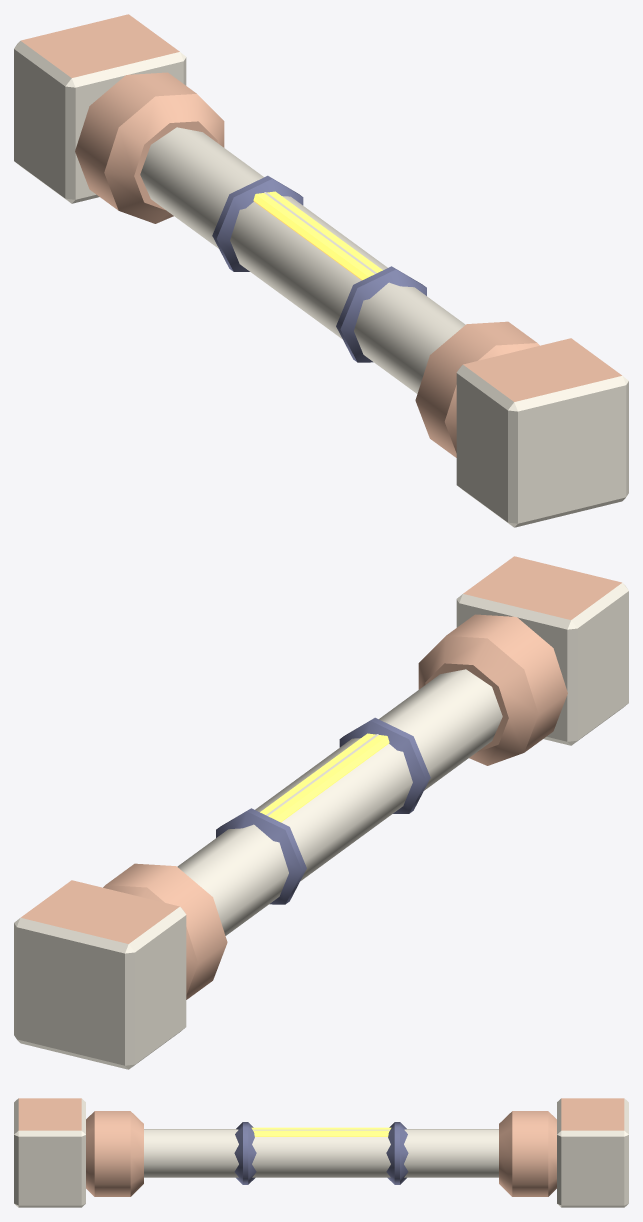
The model's file is R4C_ROD_STANDARD_LOD1.fbx.
3 renders of one model, top to bottom at view 1: azimuth 30°, elevation 25°; view 2: azimuth 150°, elevation 25°; view 3: azimuth 270°, elevation 25°, orthographic. The views are drawn at different scales.
Parts seen in each view (by area): view 1: R4C_ROD_STANDARD_LOD1; view 2: R4C_ROD_STANDARD_LOD1; view 3: R4C_ROD_STANDARD_LOD1.
Part boxes in pixels (bbox=[...]): R4C_ROD_STANDARD_LOD1: bbox=[14, 14, 628, 527]; R4C_ROD_STANDARD_LOD1: bbox=[14, 556, 628, 1069]; R4C_ROD_STANDARD_LOD1: bbox=[14, 1098, 628, 1207].
Size of the model in its own units: 0.2281 by 0.2278 by 1.62.
